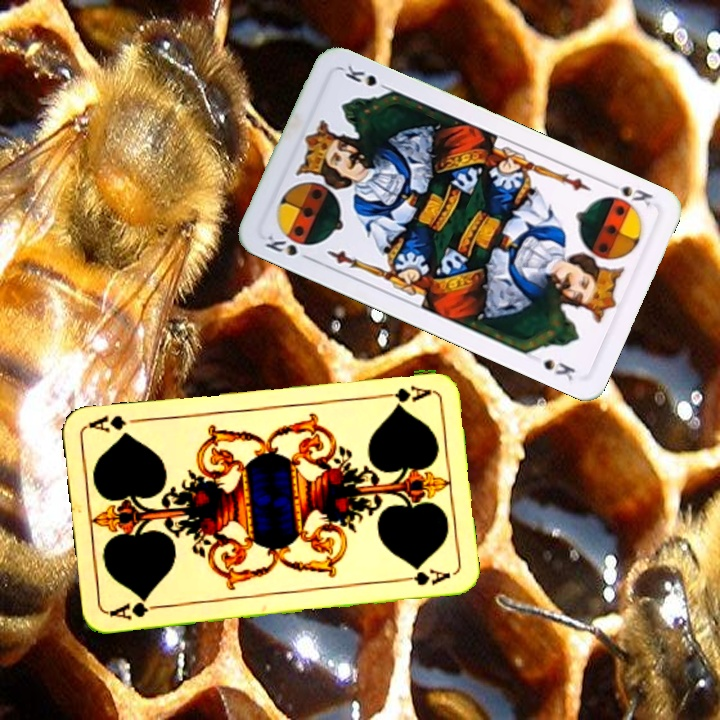GA: (107, 593, 166, 623), (374, 381, 434, 406)
SK: (261, 231, 316, 264), (602, 177, 656, 209)
